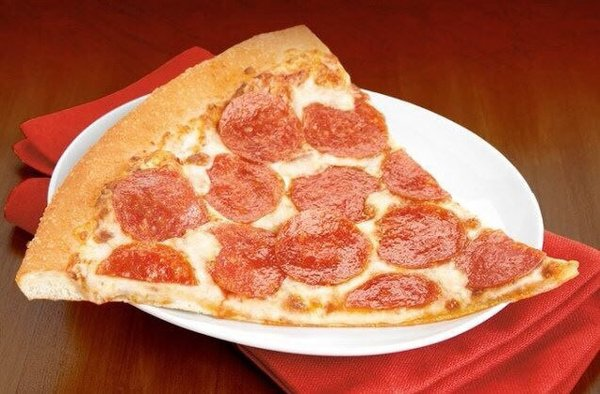curry: (2, 2, 596, 388)
sandwich: (32, 26, 579, 330)
